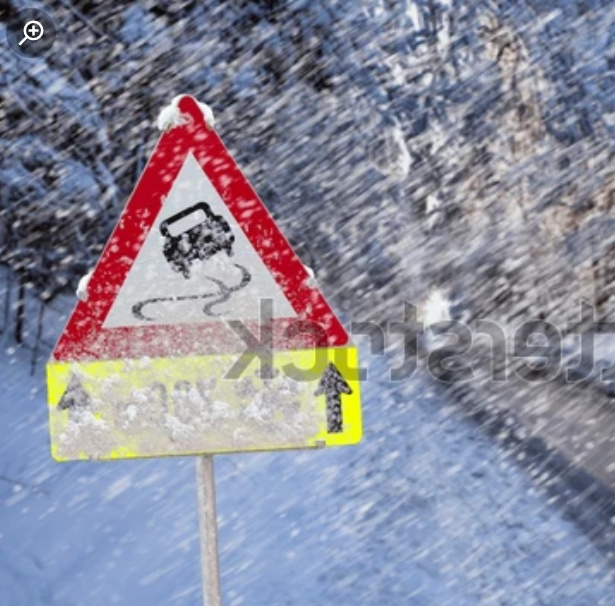Slippery road: (38, 92, 360, 364)
